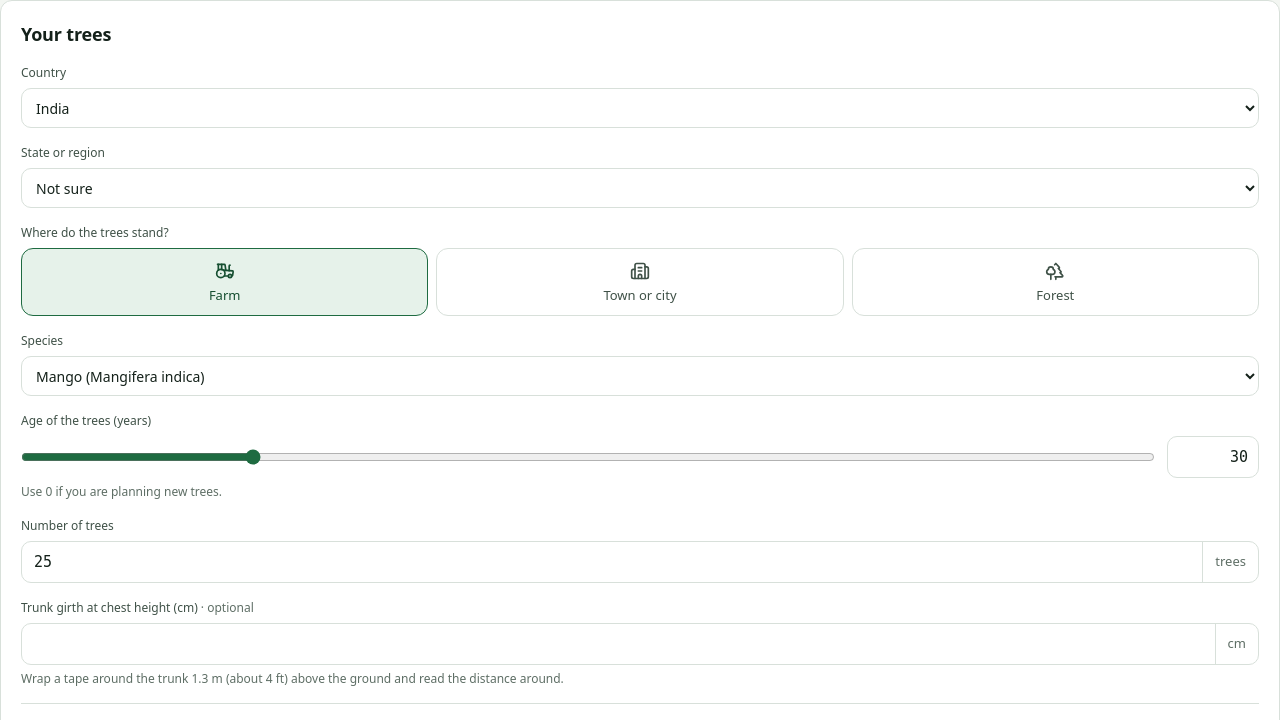
it: InputsCard › lets someone drag the age, and sends it straight away
Set the slider named "Age of the trees, slider" to "80" at (625, 457), box x1=21 y1=445 x2=1155 y2=469
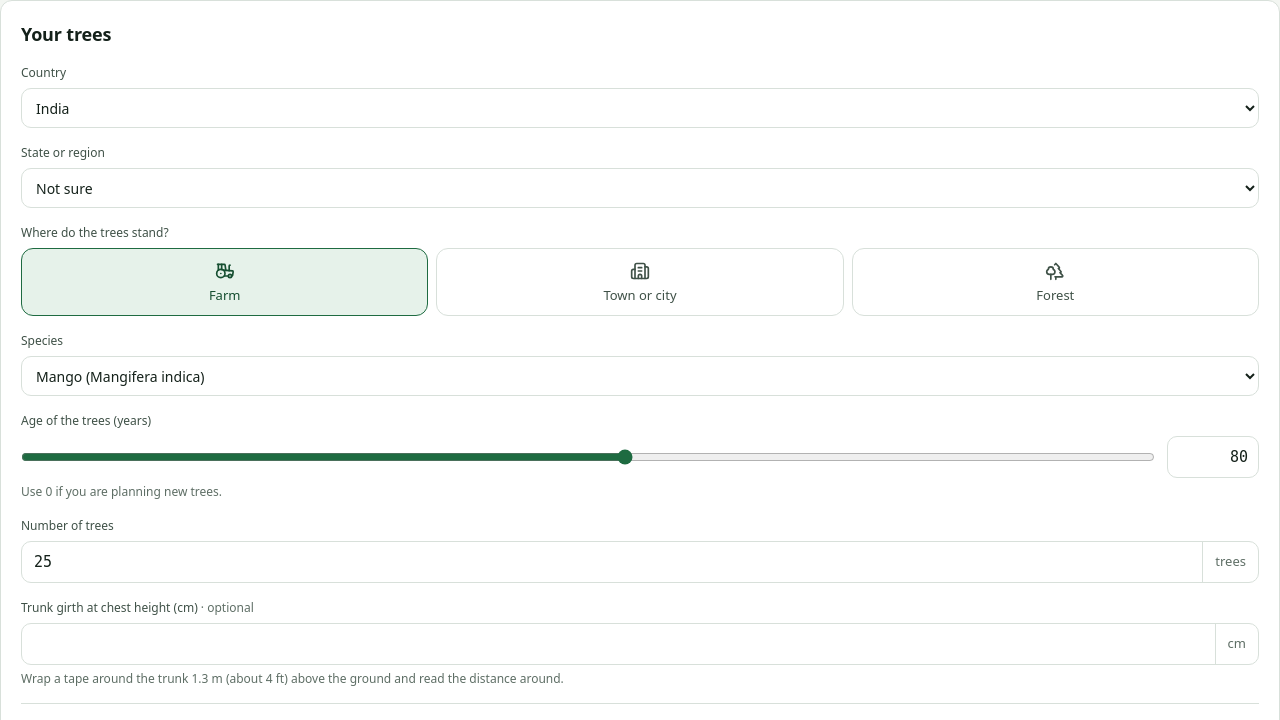
Result: the field labelled "Age of the trees (years)" holds "80" at x1=1168 y1=437 x2=1258 y2=477
